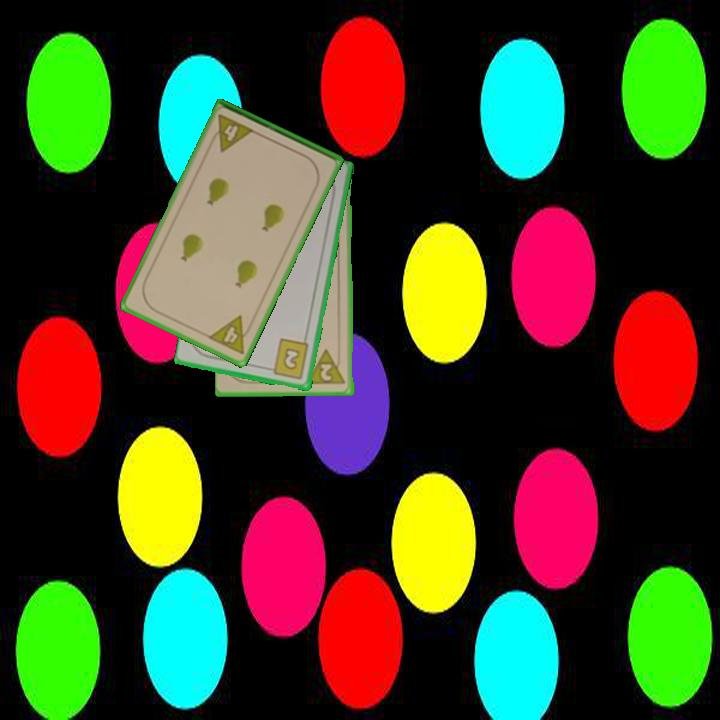2b: (264, 336, 311, 382)
2p: (305, 347, 349, 387)
4p: (204, 312, 257, 357), (206, 111, 257, 155)
